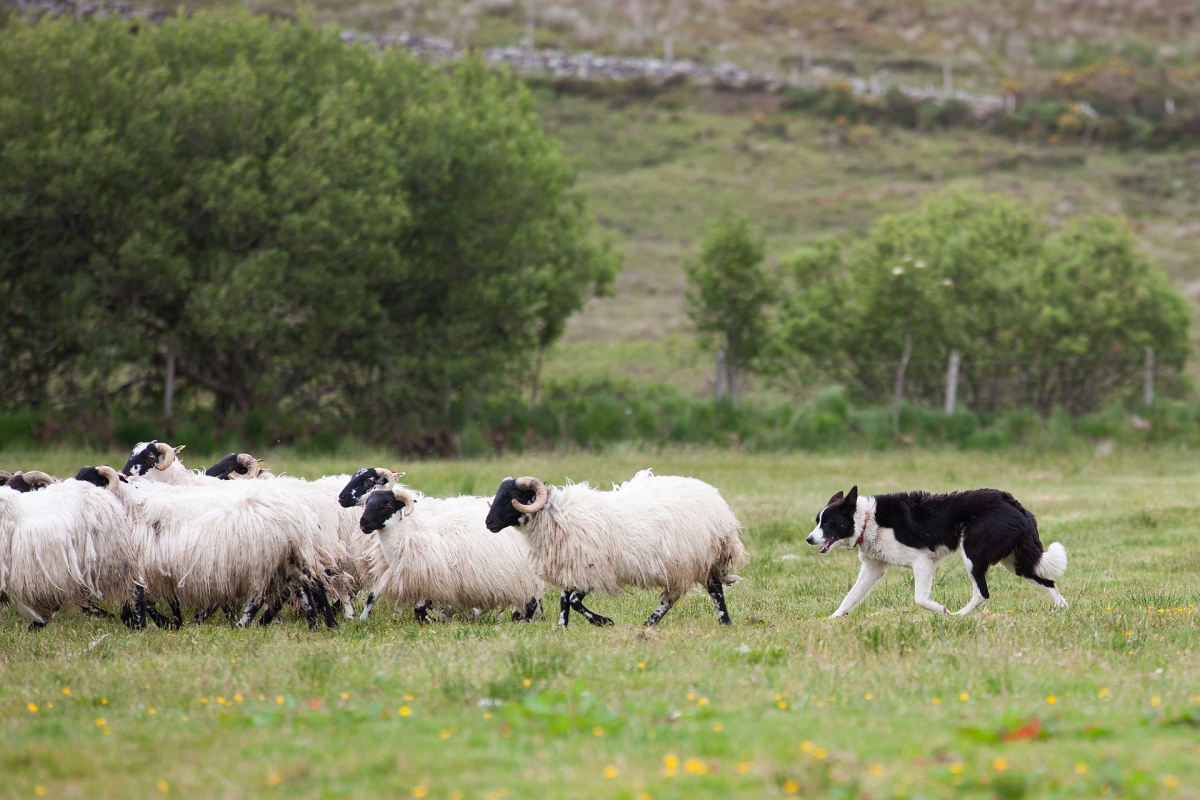sheep: (483, 469, 755, 631), (80, 462, 280, 629), (357, 479, 552, 631), (123, 444, 323, 546), (341, 461, 425, 619)
